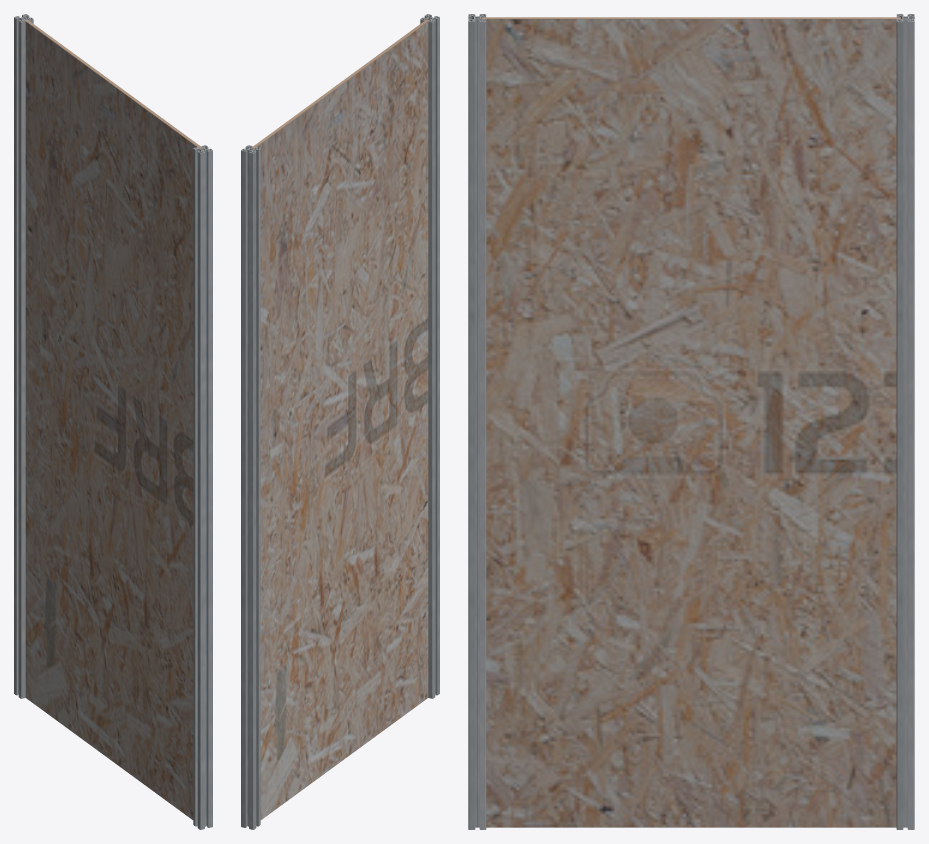
File: sidewall.dae
The picture shows the model from 3 angles, left to right: view 1: azimuth 30°, elevation 25°; view 2: azimuth 150°, elevation 25°; view 3: azimuth 270°, elevation 25°; orthographic projection. The views are drawn at different scales.
Visible parts, largest first — view 1: sidewall, Profile40x10_001, Profile40x10; view 2: sidewall, Profile40x10, Profile40x10_001; view 3: sidewall, Profile40x10, Profile40x10_001.
Part boxes in pixels (x1,y1,x2,y2): sidewall: (24,19,202,819); Profile40x10_001: (193,145,212,829); Profile40x10: (14,14,33,698); sidewall: (251,19,429,819); Profile40x10: (241,145,260,829); Profile40x10_001: (420,14,439,698); sidewall: (482,17,900,827); Profile40x10: (896,14,914,829); Profile40x10_001: (468,14,486,829).
Size of the model in its own units: 0.04 by 1 by 2.
2 materials, 2 textured.
